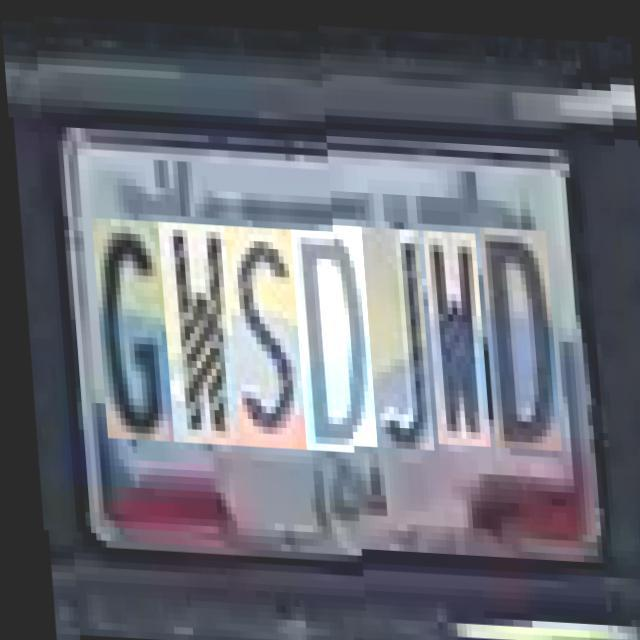D: (287, 220, 371, 442), (476, 221, 556, 444)
G: (88, 210, 167, 433)
J: (358, 222, 428, 446)
S: (221, 216, 300, 439)
W: (154, 213, 233, 436), (420, 225, 484, 441)
